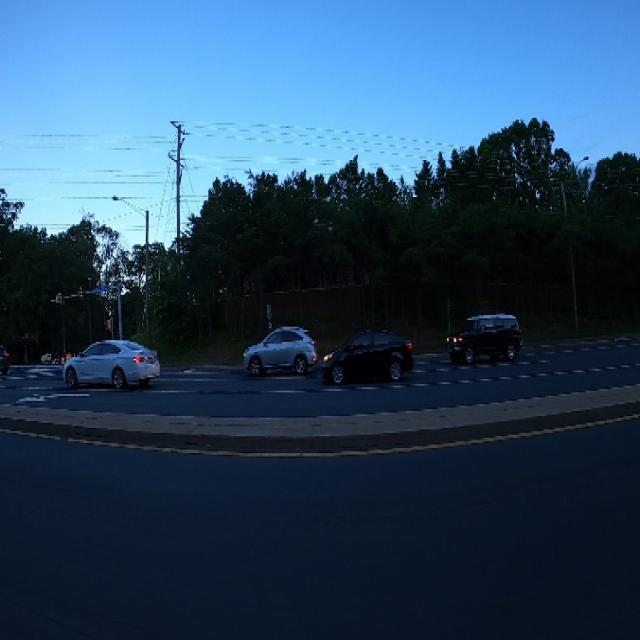cars: (310, 325, 415, 397), (54, 333, 160, 395), (445, 302, 521, 373), (239, 320, 319, 376), (0, 338, 10, 375)
